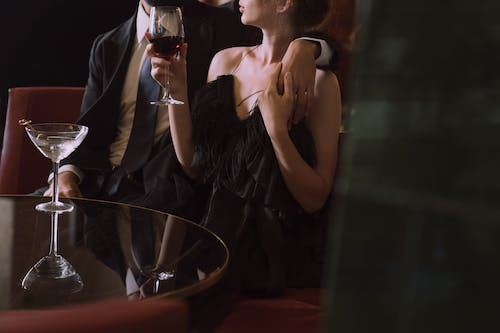alcohol: (23, 121, 89, 213), (146, 6, 185, 106)
